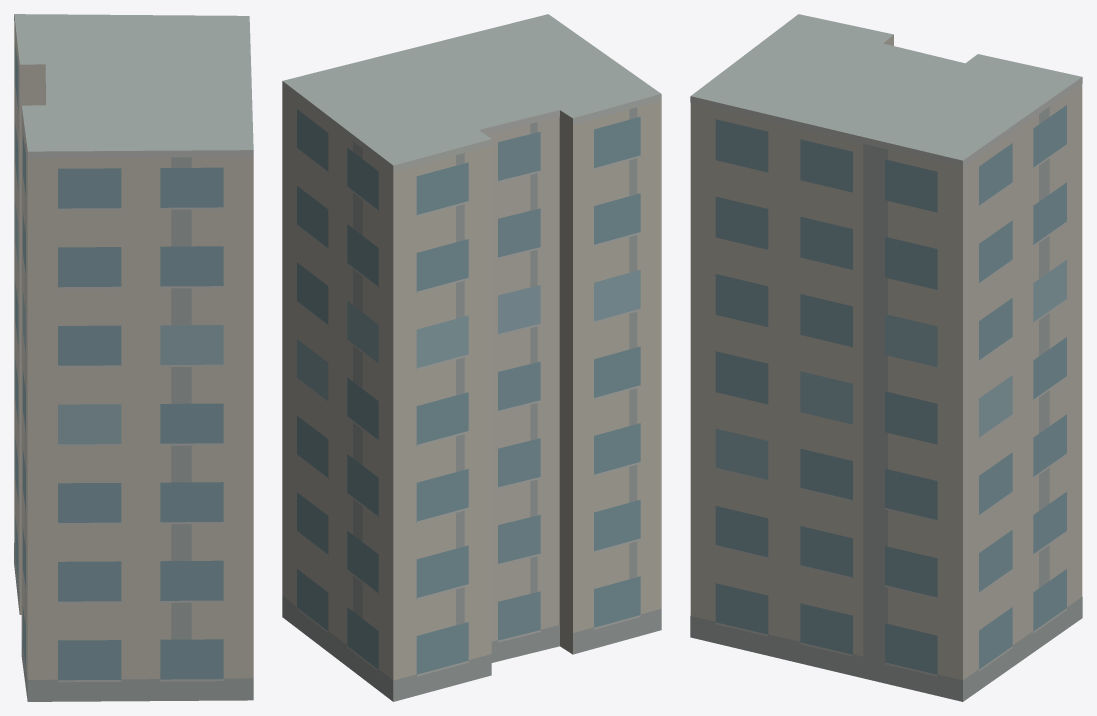
File: survey-upis-32811955.glb
The picture shows the model from 3 angles, left to right: view 1: azimuth 30°, elevation 25°; view 2: azimuth 150°, elevation 25°; view 3: azimuth 270°, elevation 25°; orthographic projection. The views are drawn at different scales.
Visible parts, largest first — view 1: survey-upis-32811955.tmp; view 2: survey-upis-32811955.tmp; view 3: survey-upis-32811955.tmp.
Part boxes in pixels (left/top/right/bottom): survey-upis-32811955.tmp: left=14, top=14, right=253, bottom=701; survey-upis-32811955.tmp: left=282, top=14, right=661, bottom=701; survey-upis-32811955.tmp: left=690, top=14, right=1082, bottom=701.
Bounding box in the file's own units: 11.51 × 19.8 × 13.
